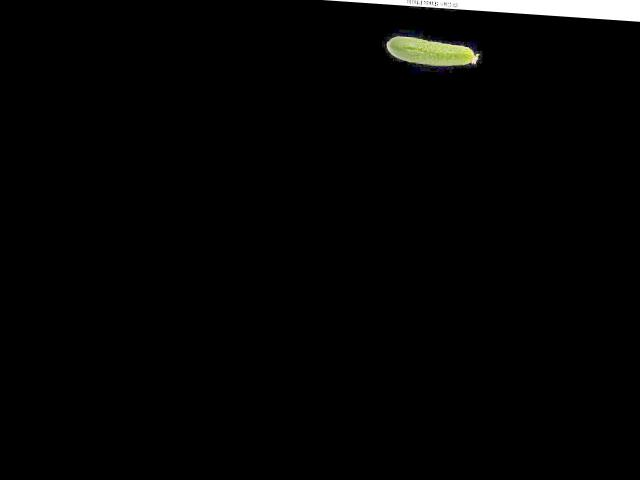cucumber: (385, 35, 479, 68)
